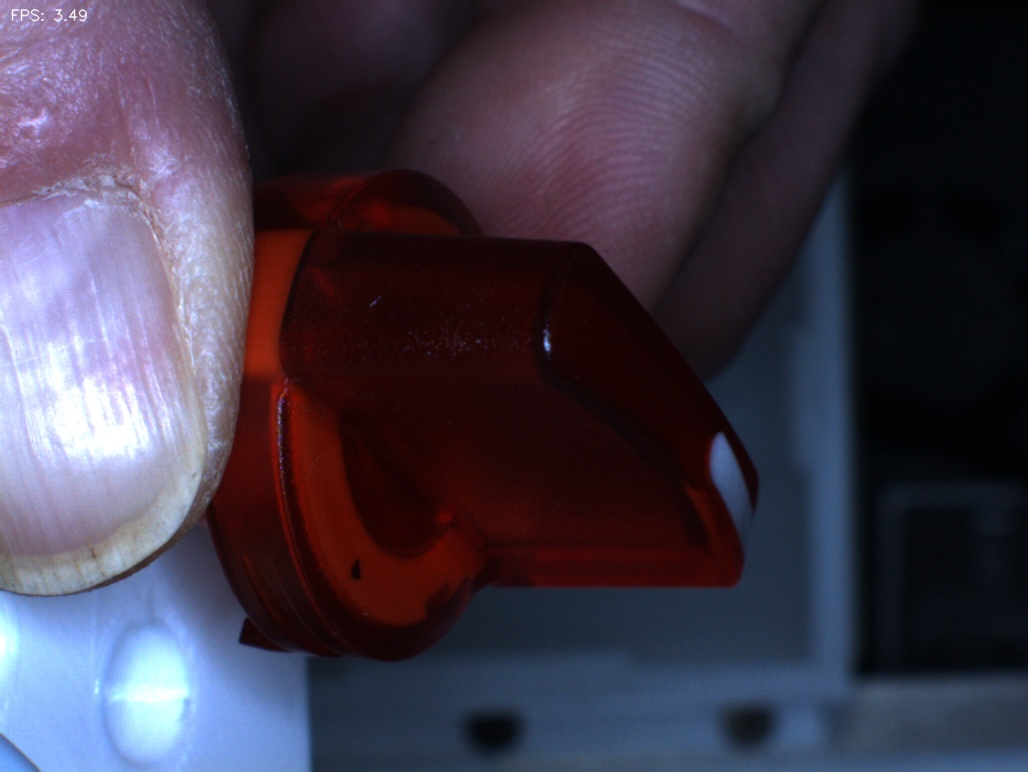PointNoir: (320, 533, 392, 615)
